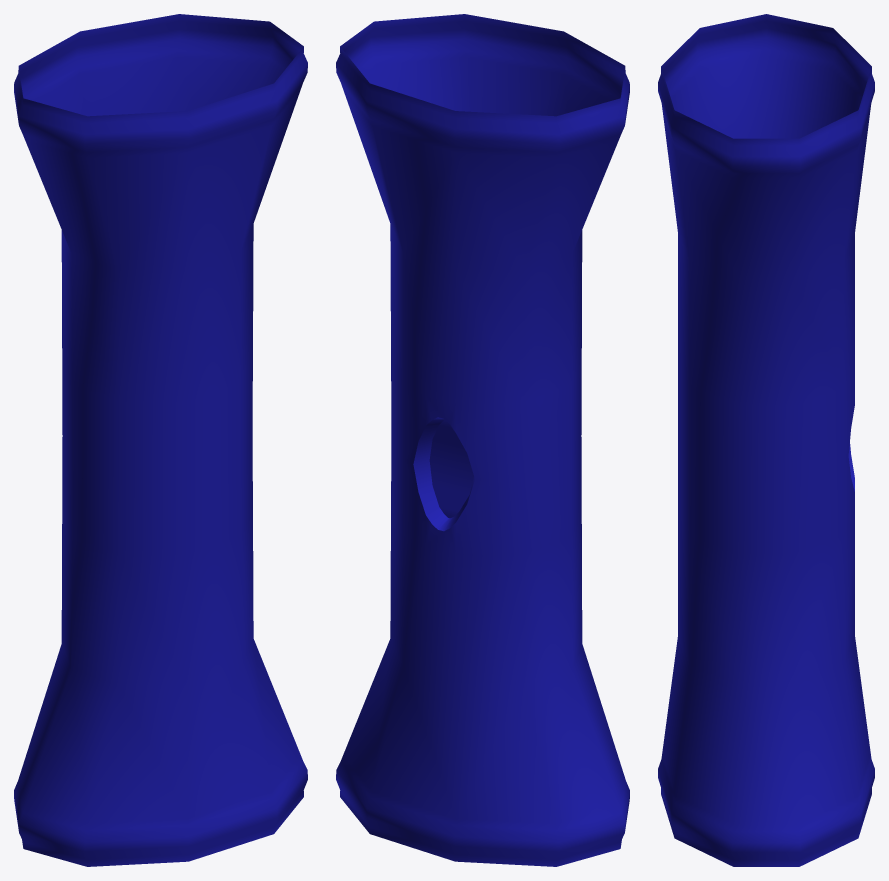
File: quixel handle.obj
The picture shows the model from 3 angles, left to right: view 1: azimuth 30°, elevation 25°; view 2: azimuth 150°, elevation 25°; view 3: azimuth 270°, elevation 25°; orthographic projection. The views are drawn at different scales.
Visible parts, largest first — view 1: Handle; view 2: Handle; view 3: Handle.
Boxes of the visible parts, x1,y1,x2,y2 form: Handle: (14, 14, 307, 866); Handle: (336, 14, 629, 866); Handle: (658, 14, 874, 866).
Bounding box in the file's own units: 2.21 × 5.84 × 1.58.
